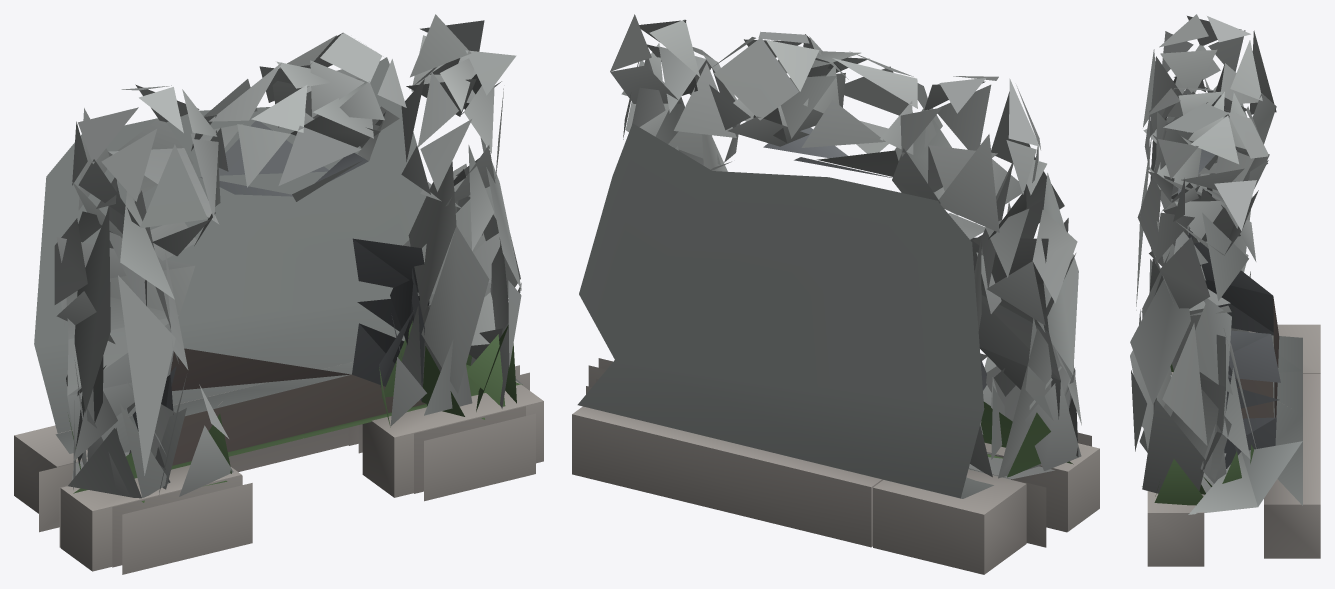
The model's file is cave.lod.glb.
3 renders of one model, left to right at view 1: azimuth 30°, elevation 25°; view 2: azimuth 150°, elevation 25°; view 3: azimuth 270°, elevation 25°, orthographic. The views are drawn at different scales.
Parts seen in each view (by area): view 1: cave; view 2: cave; view 3: cave.
Boxes of the visible parts, bbox=[...] form: cave: bbox=[14, 14, 543, 574]; cave: bbox=[572, 14, 1099, 574]; cave: bbox=[1130, 14, 1320, 566].
Bounding box in the file's own units: 12.51 × 11.07 × 4.96.
